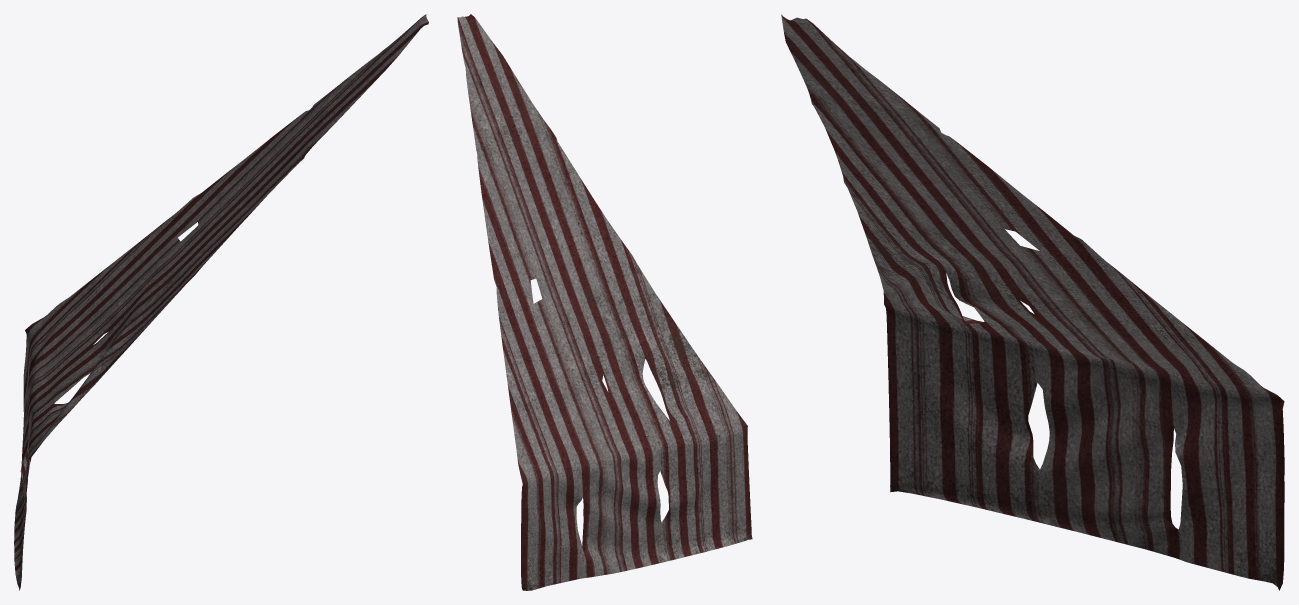
Rendered from Tent_P_Rag06.FBX.
The picture shows the model from 3 angles, left to right: view 1: azimuth 30°, elevation 25°; view 2: azimuth 150°, elevation 25°; view 3: azimuth 270°, elevation 25°; orthographic projection. The views are drawn at different scales.
Visible parts, largest first — view 1: Tent_P_Rag06; view 2: Tent_P_Rag06; view 3: Tent_P_Rag06.
Part boxes in pixels (box(x1,y1,x2,y2)): Tent_P_Rag06: box(14, 14, 428, 590); Tent_P_Rag06: box(457, 14, 752, 590); Tent_P_Rag06: box(781, 14, 1284, 590).
Size of the model in its own units: 1353 by 1729 by 1057.
